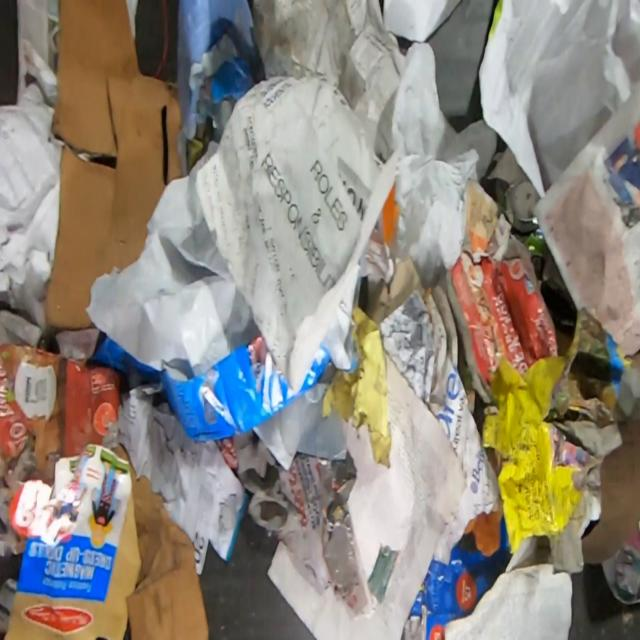cardboard: (45, 0, 183, 329), (3, 442, 142, 640), (0, 342, 123, 559), (111, 442, 210, 640), (444, 241, 559, 403), (400, 511, 514, 640)
metal: (503, 174, 547, 258)
soft_plastic: (90, 332, 331, 442), (388, 42, 497, 281)
